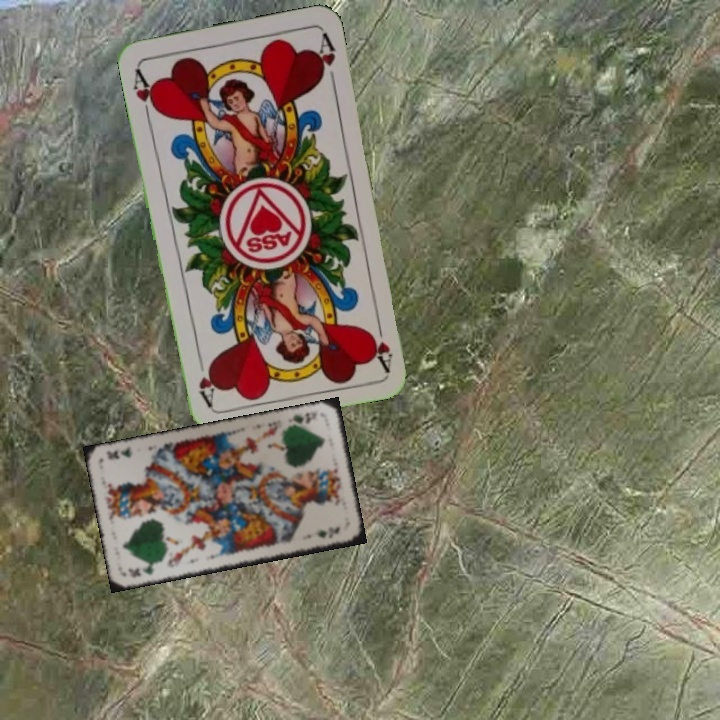GK: (124, 558, 162, 580), (285, 407, 320, 430)
HA: (129, 64, 161, 122), (364, 314, 395, 373)
